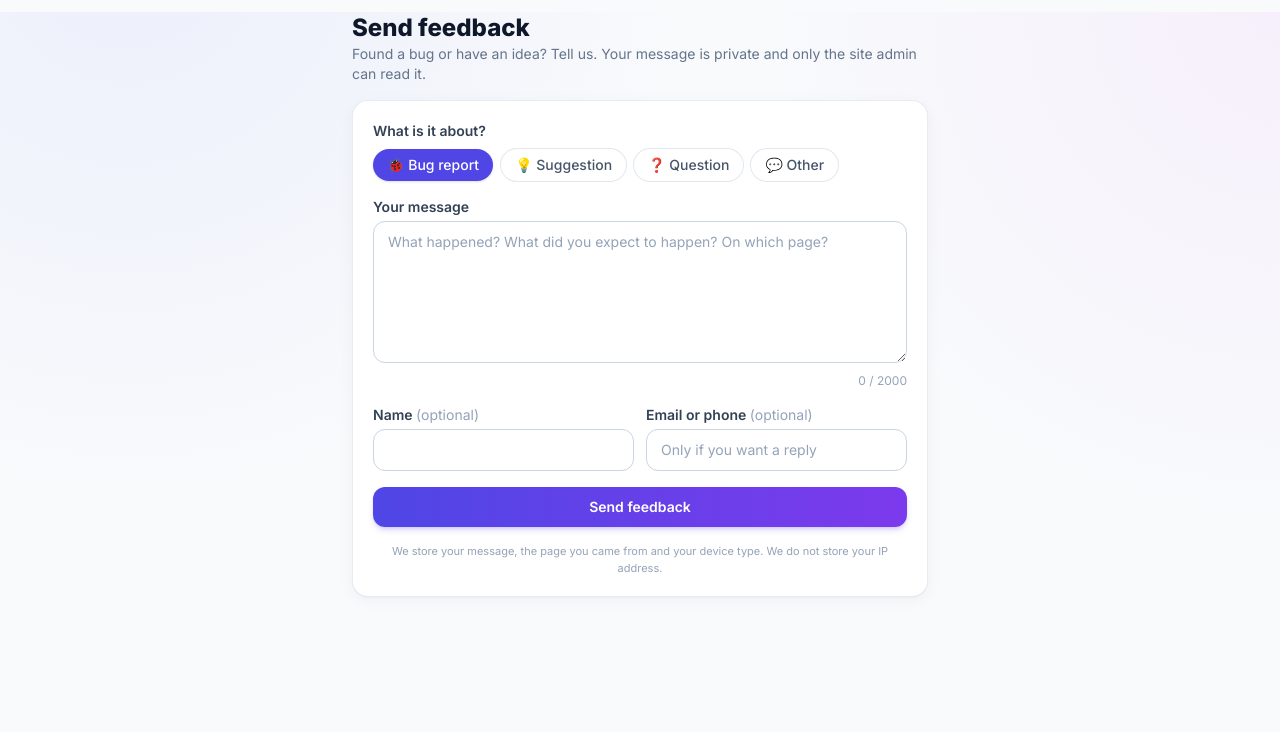
Test: only same-site paths are accepted as the "from" page
In the text box labelled "Your message": {"x": 640, "y": 292} [373,221,907,363], type "Something is broken here"
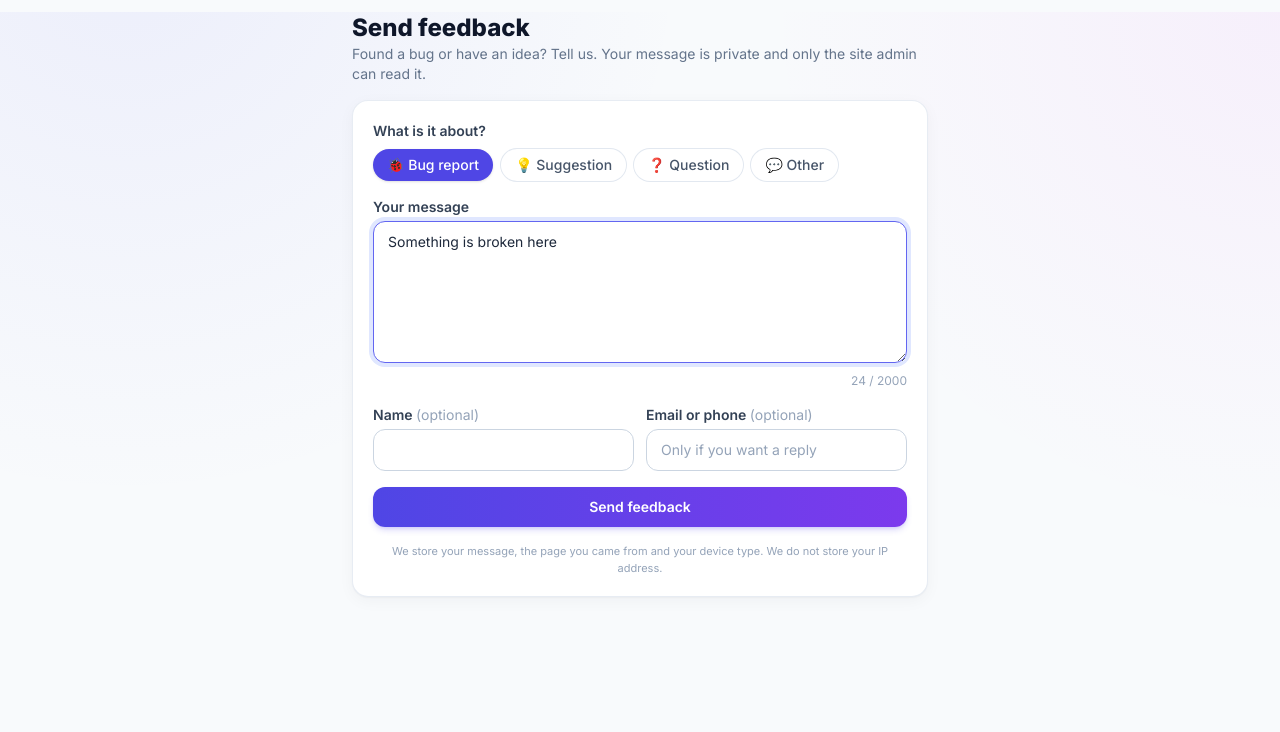
Click the button "Send feedback": {"x": 640, "y": 507} [373,487,907,527]
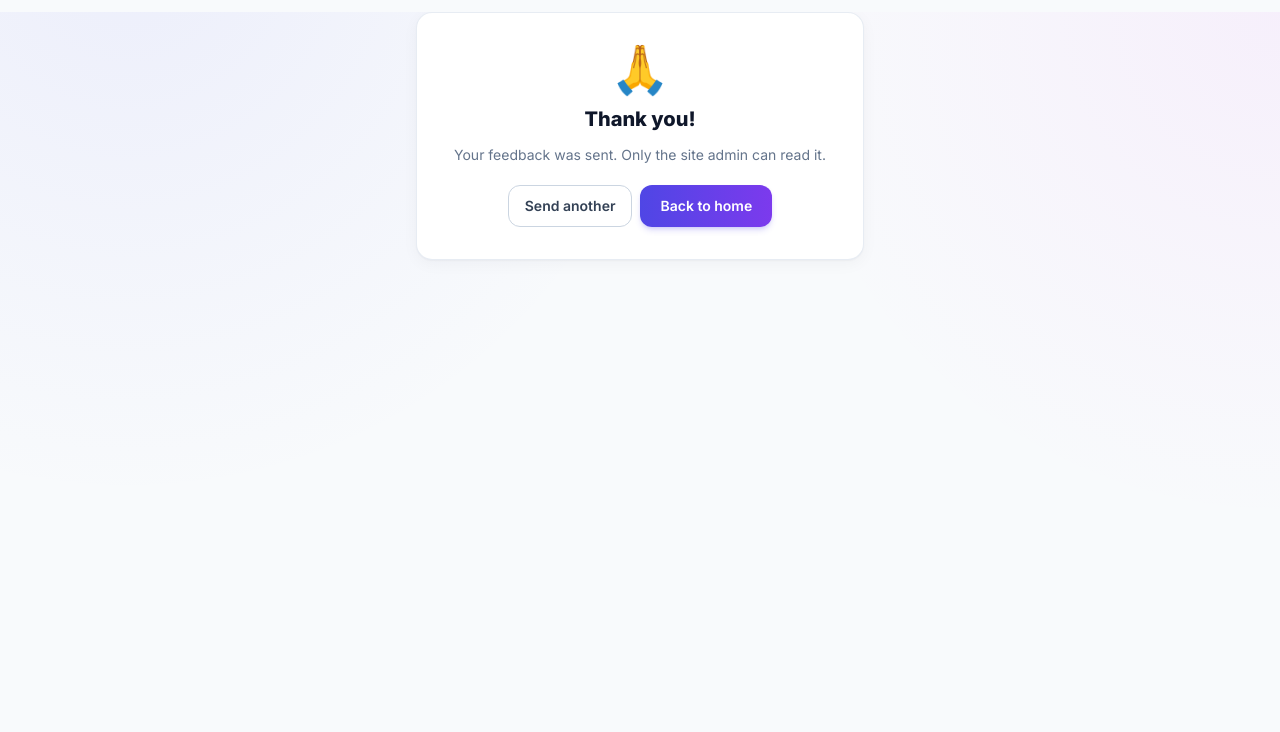
Expected: the heading "Thank you!" is shown, [584,107,696,131]
